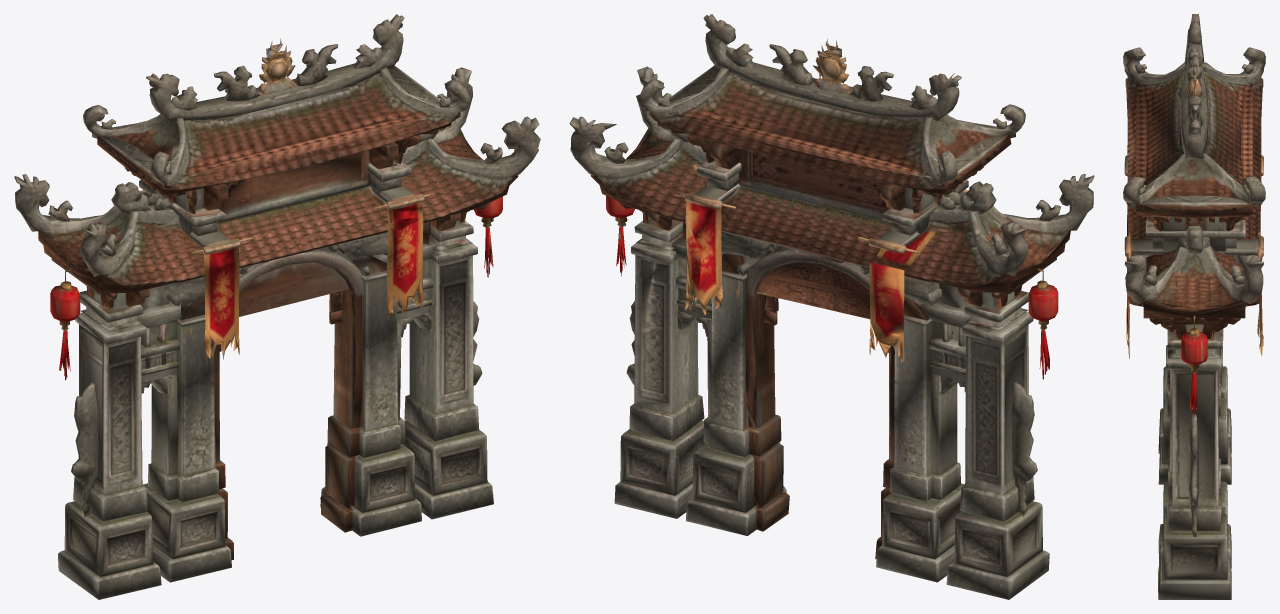
File: DragonLanternGate.fbx
3 renders of one model, left to right at view 1: azimuth 30°, elevation 25°; view 2: azimuth 150°, elevation 25°; view 3: azimuth 270°, elevation 25°, orthographic. The views are drawn at different scales.
Parts seen in each view (by area): view 1: Mesh_0; view 2: Mesh_0; view 3: Mesh_0.
Boxes of the visible parts, x1,y1,x2,y2 form: Mesh_0: [14, 14, 540, 599]; Mesh_0: [569, 14, 1094, 599]; Mesh_0: [1123, 14, 1265, 599].
Size of the model in its own units: 91.16 by 95.26 by 27.39.
Materials: 1 (1 with a texture image).
